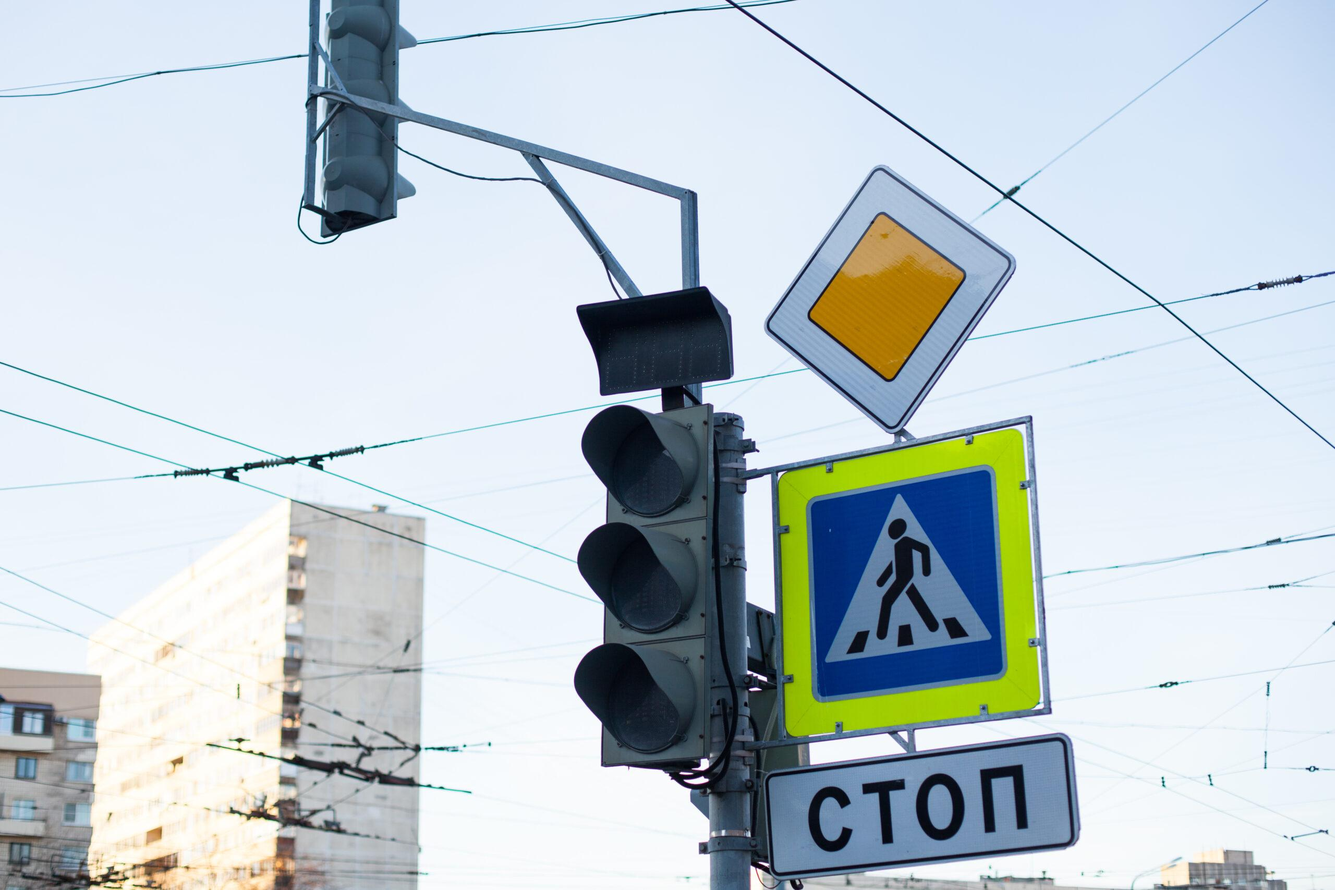off traffic light: (571, 409, 740, 760)
road_sign: (769, 417, 1051, 738), (767, 167, 1014, 433), (764, 735, 1079, 879)
